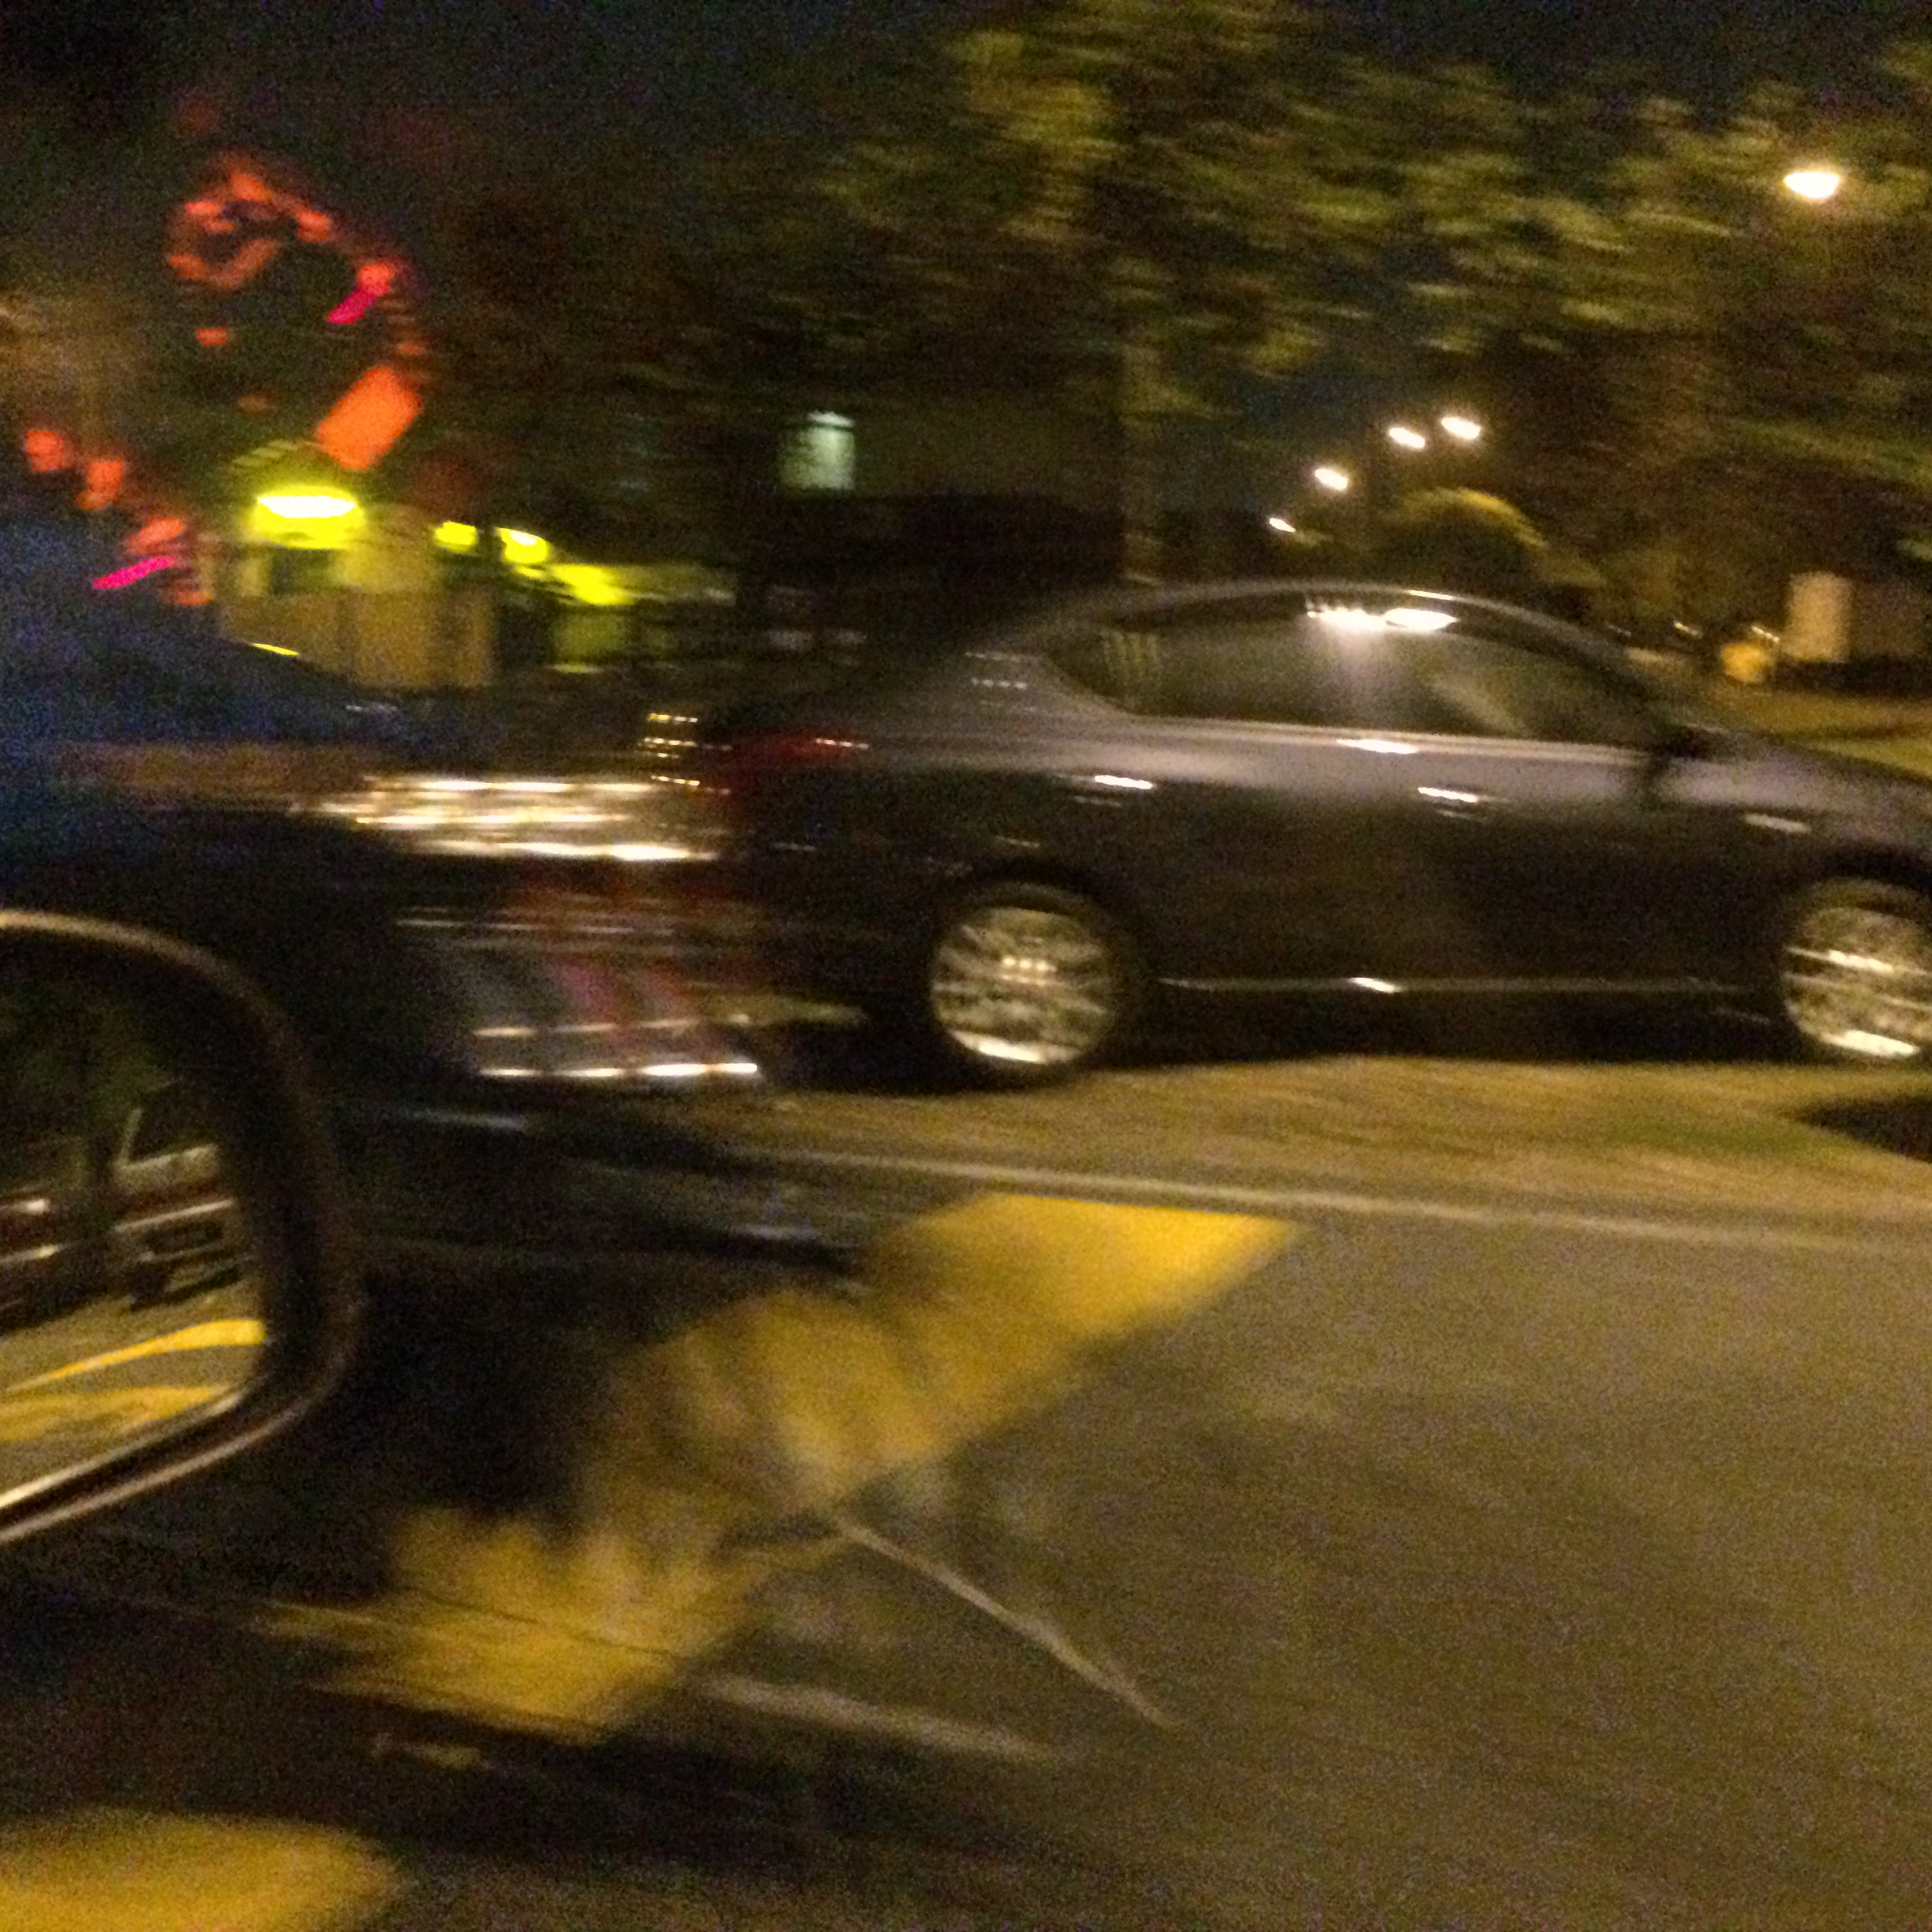car: (656, 550, 1914, 1086)
